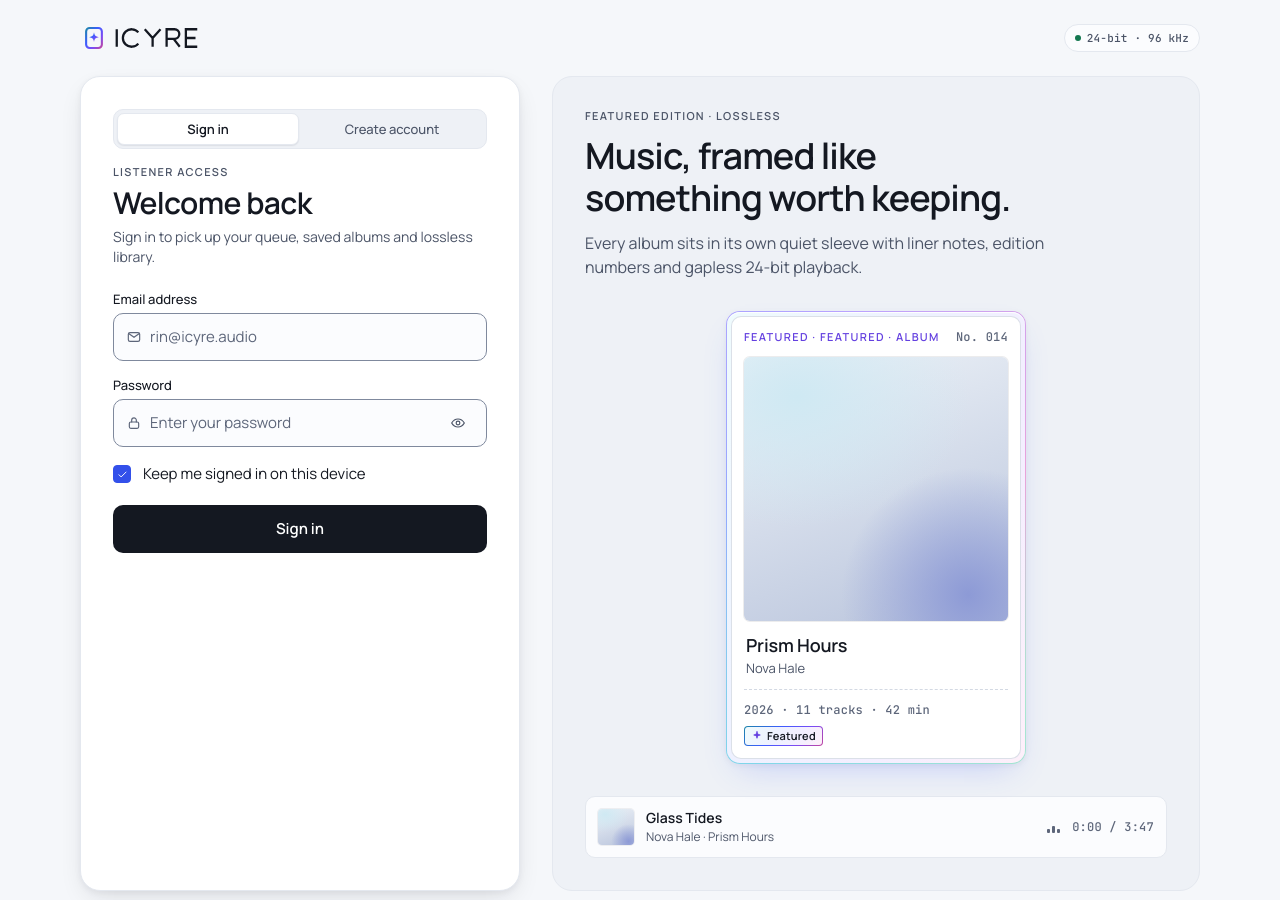
Scenario: Auth screens › switches between Sign in and Create account modes
This screenshot has width=1280, height=900.
Click the radio button labelled "Create account". click: x=392, y=129
box: x1=301 y1=113 x2=483 y2=145
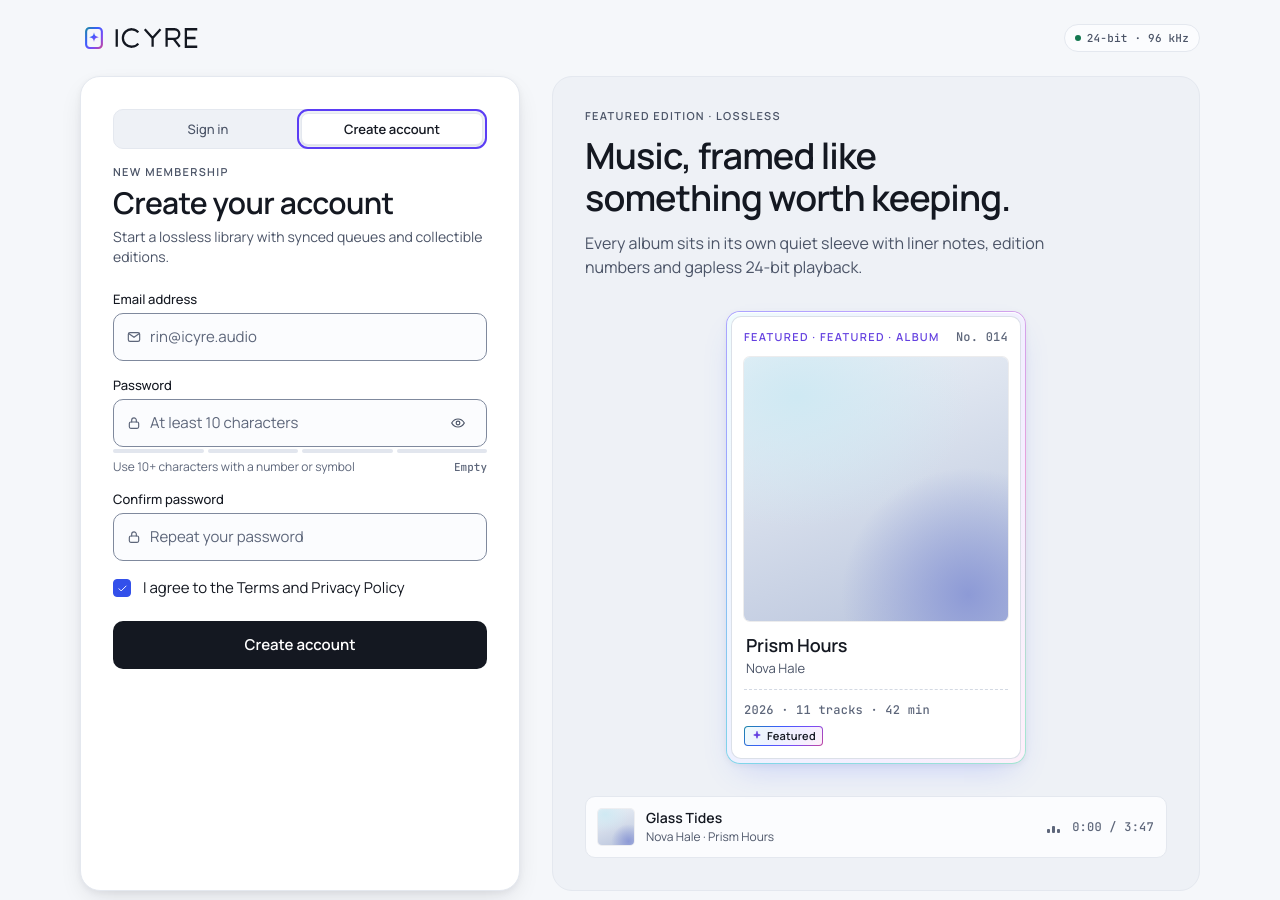
Now the heading "Create your account" is shown, box x1=113 y1=182 x2=394 y2=223
